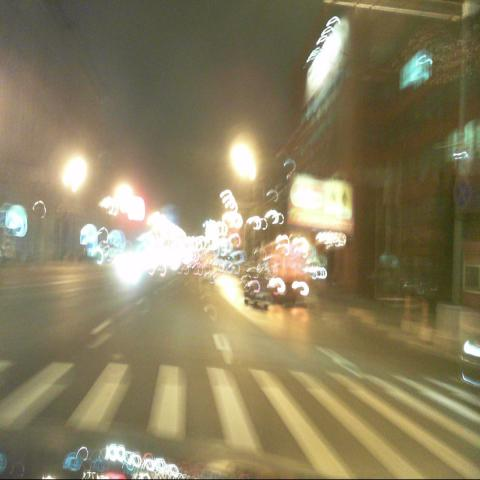3_27: (454, 180, 472, 209)
